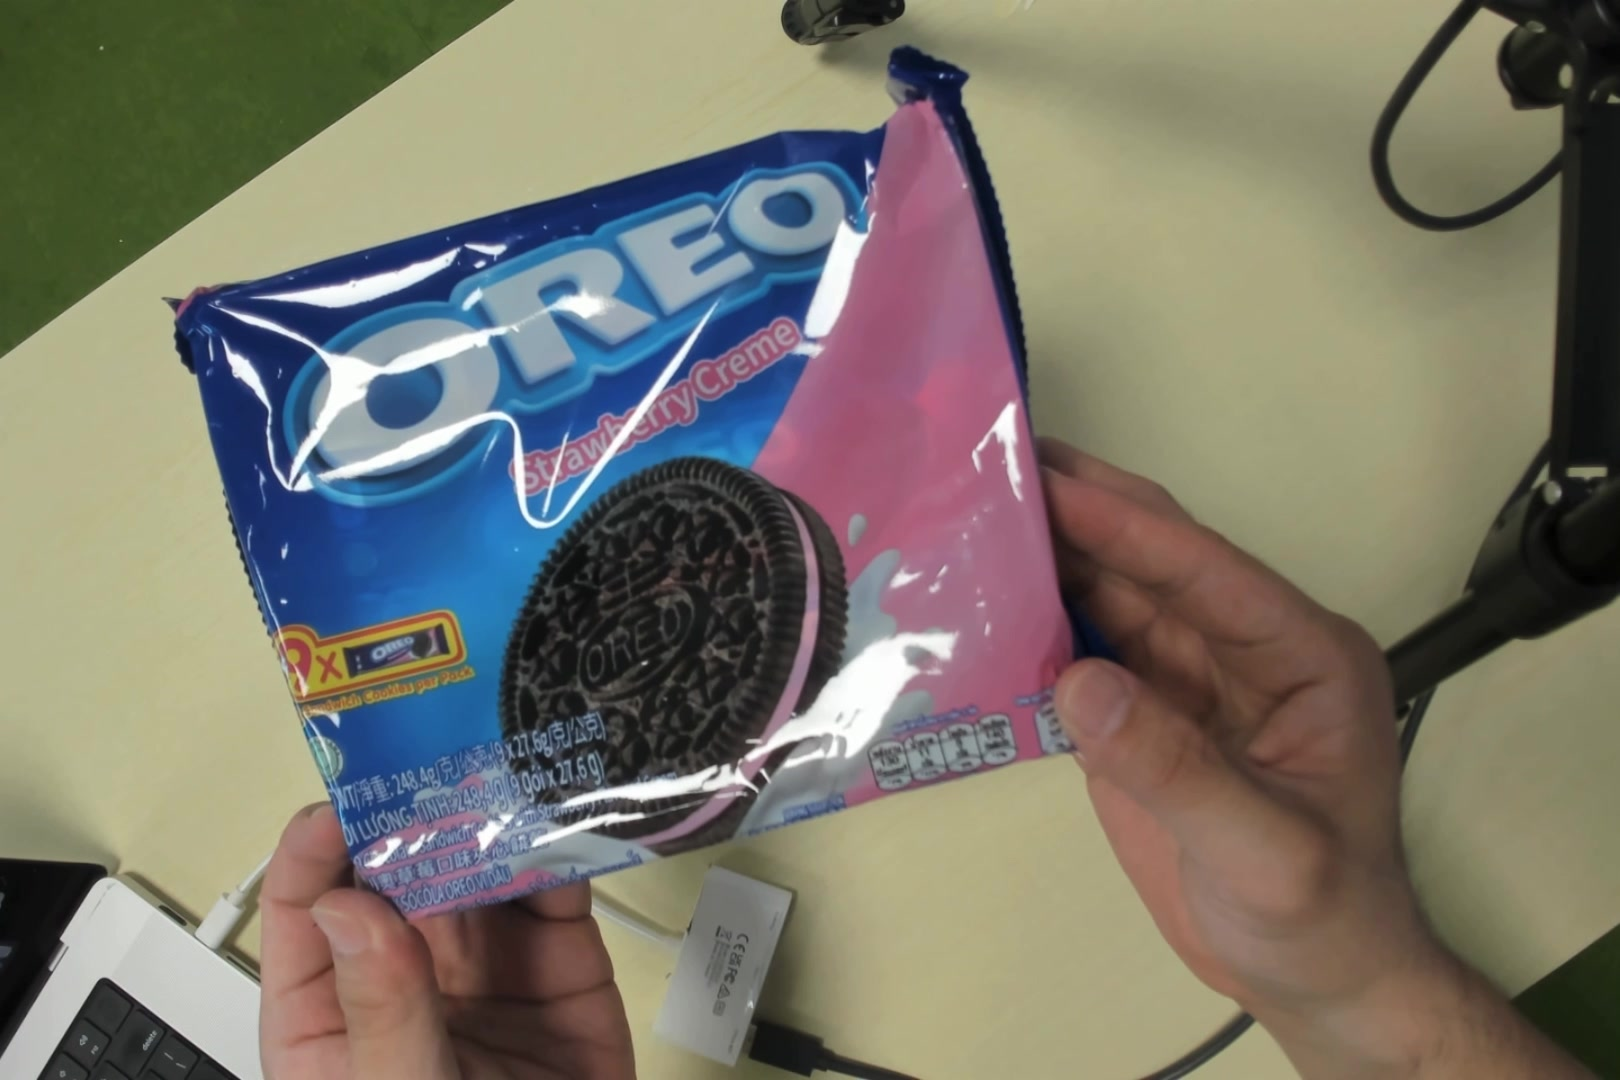SweetsChocolatesOthers_200-299g_Halal_NonHealthy: (254, 192, 1022, 862)
